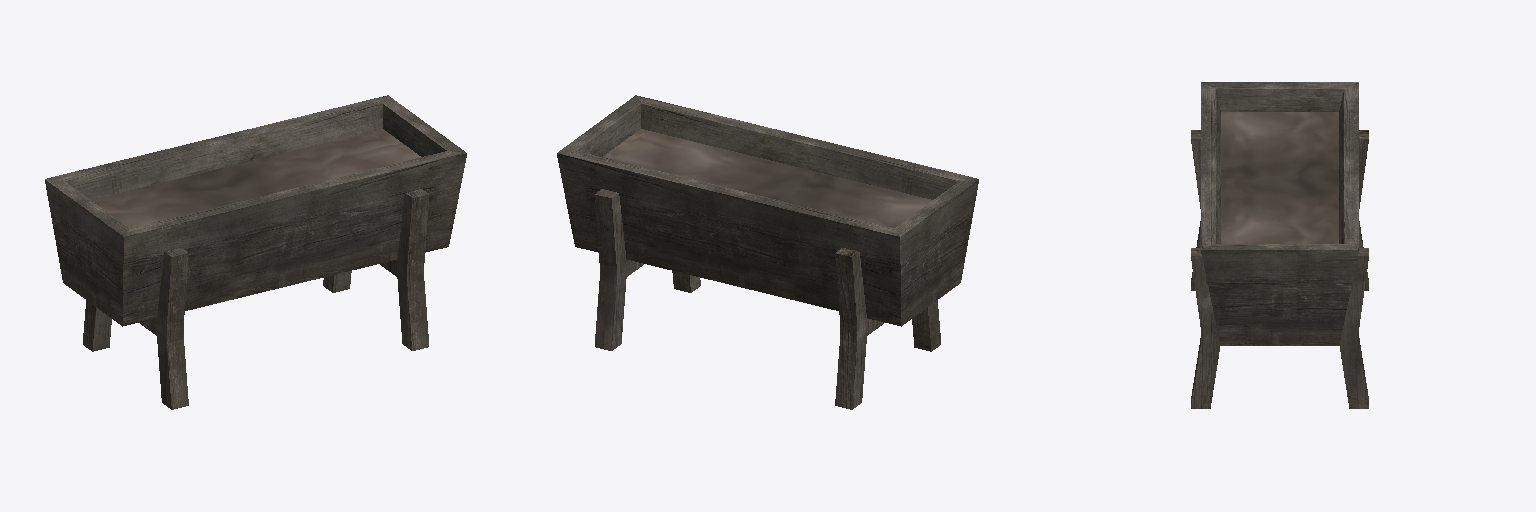
3 renders of one model, left to right at view 1: azimuth 30°, elevation 25°; view 2: azimuth 150°, elevation 25°; view 3: azimuth 270°, elevation 25°, orthographic.
Parts seen in each view (by area): view 1: skin; view 2: skin; view 3: skin.
Part boxes in pixels (bbox=[...]): skin: bbox=[45, 95, 466, 409]; skin: bbox=[557, 95, 978, 409]; skin: bbox=[1191, 82, 1368, 408].
Bounding box in the file's own units: 4 × 2 × 1.8.
Materials: 1 (1 with a texture image).